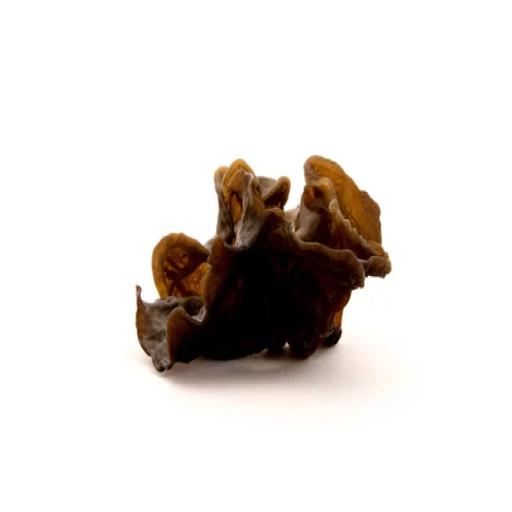Wood Ear Mushroom: (121, 139, 392, 394)
